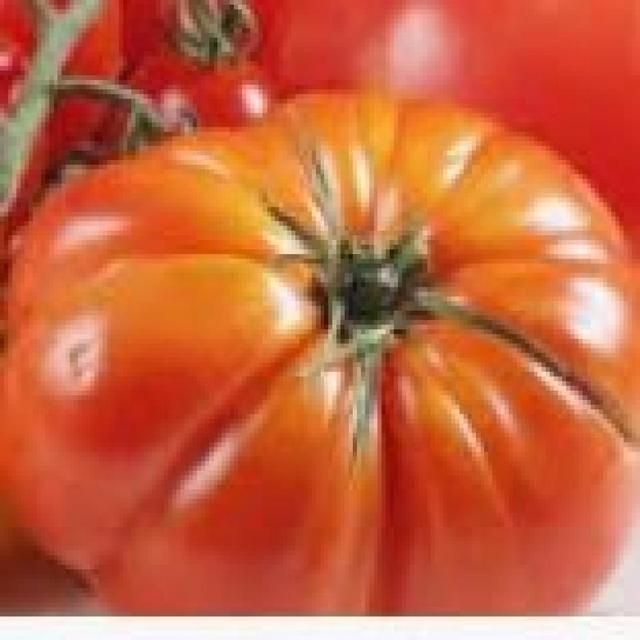Healthy Fruit: (216, 45, 421, 339)
